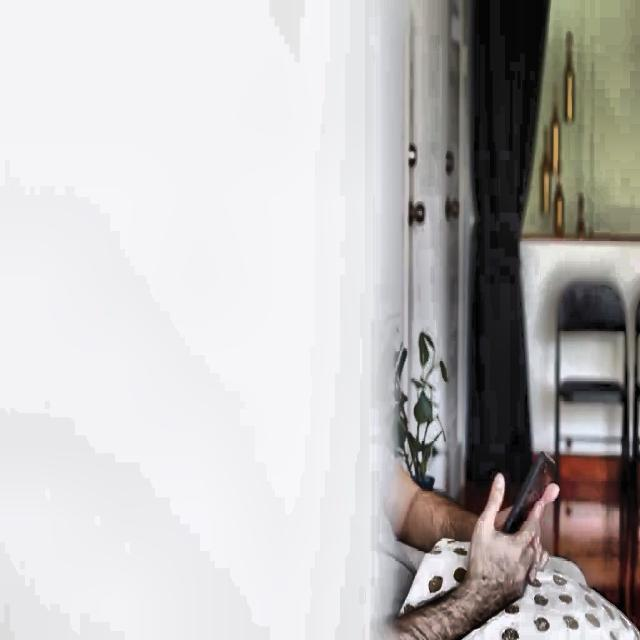Phone: (496, 446, 560, 538)
